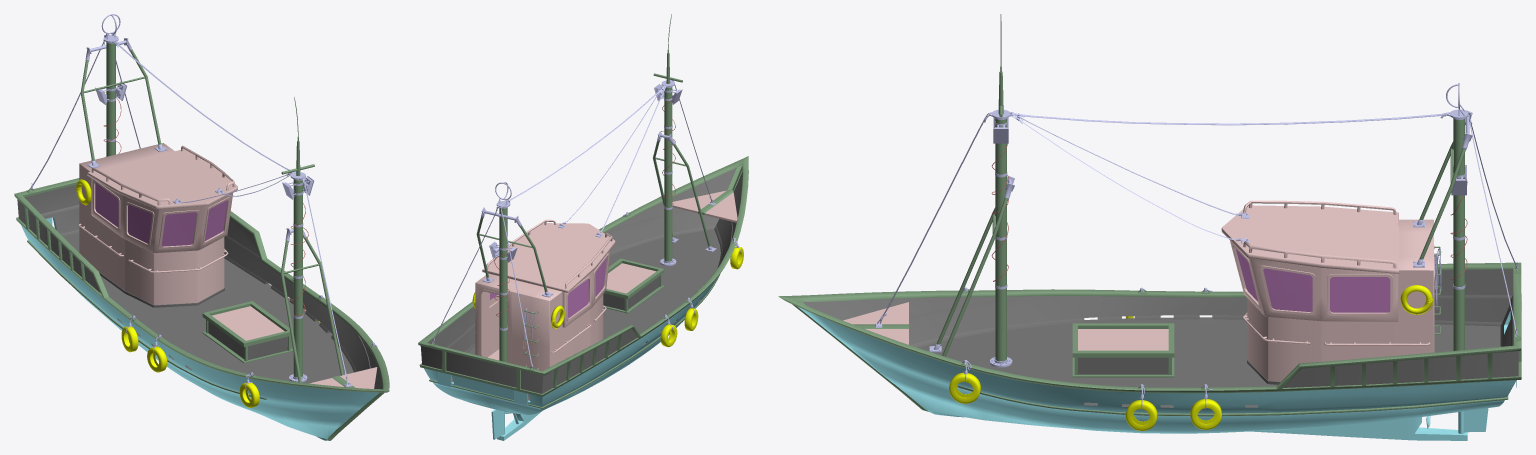
Rendered from boatOpen.fbx.
3 renders of one model, left to right at view 1: azimuth 30°, elevation 25°; view 2: azimuth 150°, elevation 25°; view 3: azimuth 270°, elevation 25°, orthographic. The views are drawn at different scales.
Parts seen in each view (by area): view 1: SM_RustyBoat_LOD0; view 2: SM_RustyBoat_LOD0; view 3: SM_RustyBoat_LOD0.
Part boxes in pixels (x1,y1,x2,y2): SM_RustyBoat_LOD0: (14,14,389,440); SM_RustyBoat_LOD0: (418,14,748,440); SM_RustyBoat_LOD0: (778,14,1521,440).
Bounding box in the file's own units: 553 × 1028 × 1641.
